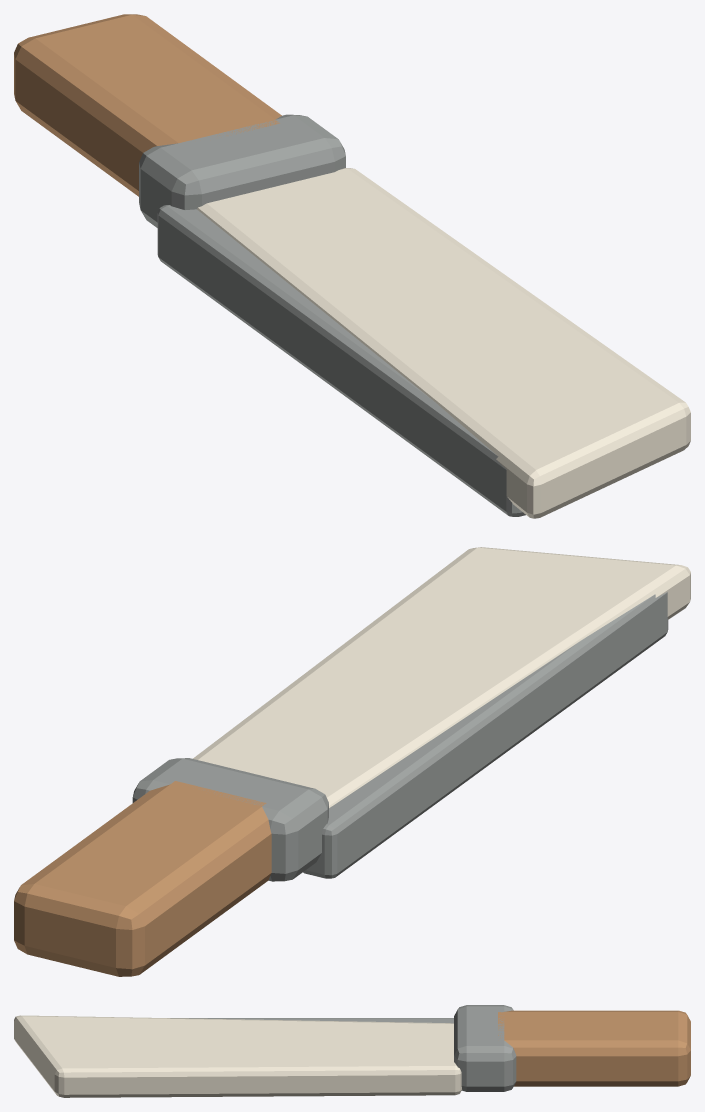
File: knife.glb
3 renders of one model, top to bottom at view 1: azimuth 30°, elevation 25°; view 2: azimuth 150°, elevation 25°; view 3: azimuth 270°, elevation 25°, orthographic. The views are drawn at different scales.
Visible parts, largest first — view 1: knifeBlade, knifeHandle, knifeSpine, knifeBolster; view 2: knifeBlade, knifeHandle, knifeSpine, knifeBolster; view 3: knifeBlade, knifeHandle, knifeBolster, knifeSpine.
Part boxes in pixels (left/top/right/bottom): knifeBlade: left=197, top=168, right=690, bottom=518; knifeHandle: left=14, top=14, right=281, bottom=196; knifeSpine: left=157, top=205, right=525, bottom=516; knifeBolster: left=139, top=114, right=345, bottom=227; knifeBlade: left=193, top=547, right=690, bottom=807; knifeHandle: left=14, top=781, right=271, bottom=976; knifeSpine: left=303, top=592, right=668, bottom=878; knifeBolster: left=132, top=758, right=328, bottom=881; knifeBlade: left=14, top=1015, right=461, bottom=1097; knifeHandle: left=498, top=1010, right=690, bottom=1086; knifeBolster: left=454, top=1005, right=516, bottom=1091; knifeSpine: left=170, top=1018, right=453, bottom=1023.
Size of the model in its own units: 0.12 by 0.05 by 0.58.
